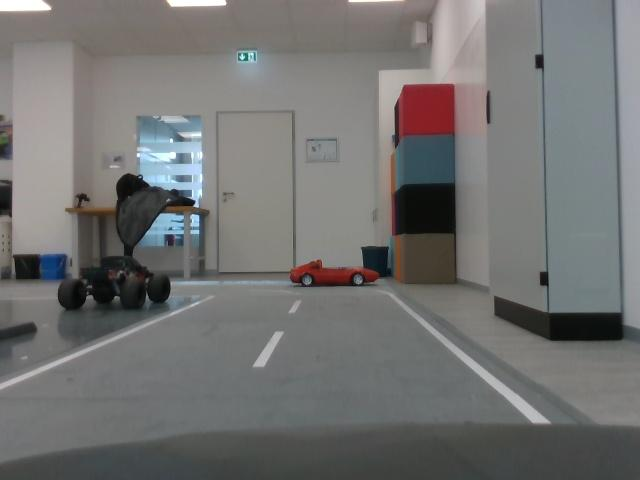car: (59, 252, 174, 314), (293, 257, 384, 294)
